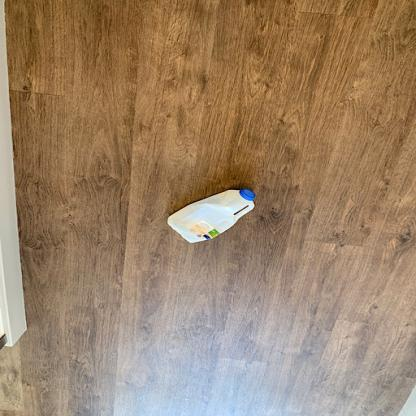trash: (167, 188, 259, 247)
